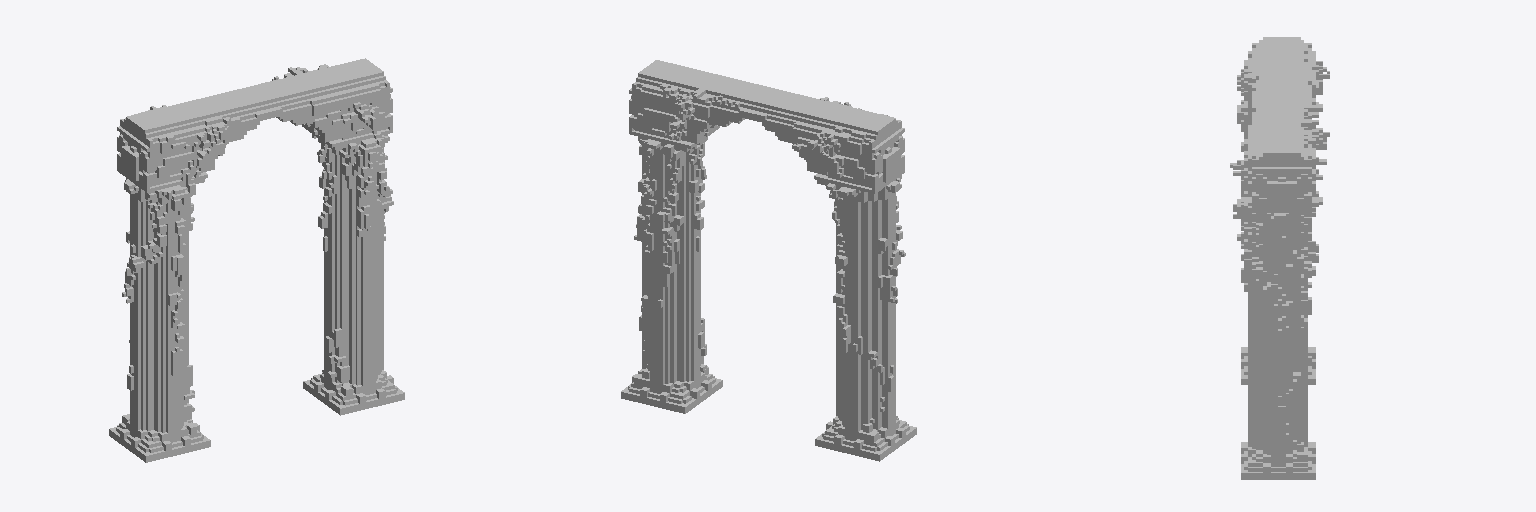
Rendered from Pillar triumf.obj.
3 views of the same model, side by side, from view 1: azimuth 30°, elevation 25°; view 2: azimuth 150°, elevation 25°; view 3: azimuth 270°, elevation 25° (orthographic).
Visible parts, largest first — view 1: object 1; view 2: object 1; view 3: object 1.
Boxes of the visible parts, <box> form: object 1: <box>109,58,404,462</box>; object 1: <box>621,60,916,461</box>; object 1: <box>1230,37,1329,479</box>.
Bounding box in the file's own units: 8 × 9.5 × 2.7.